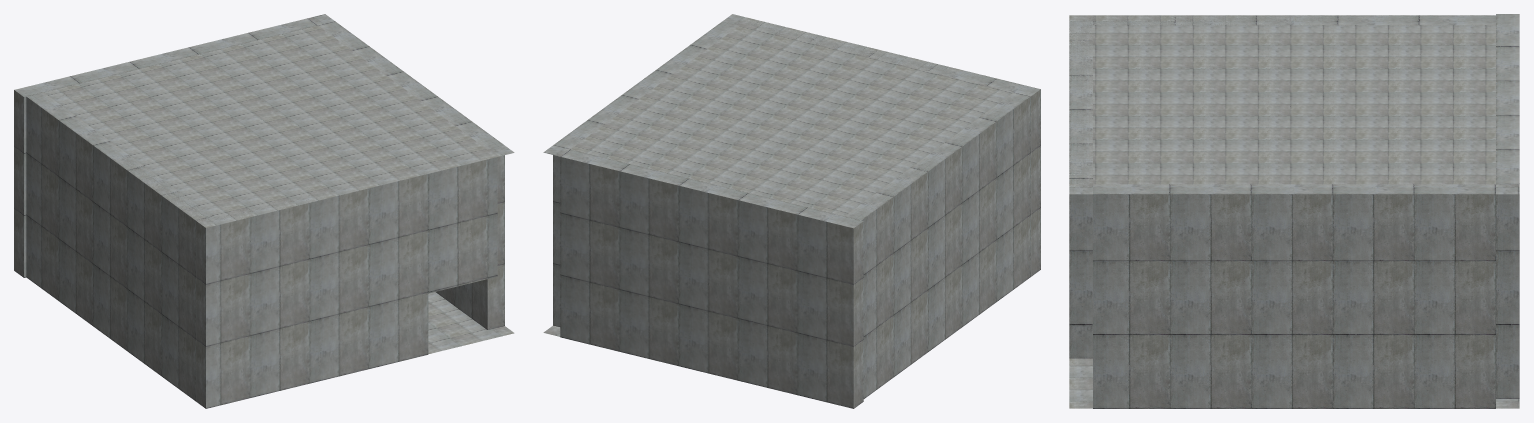
The model's file is Level_1.fbx.
The picture shows the model from 3 angles, left to right: view 1: azimuth 30°, elevation 25°; view 2: azimuth 150°, elevation 25°; view 3: azimuth 270°, elevation 25°; orthographic projection. The views are drawn at different scales.
Visible parts, largest first — view 1: Ground__1_.002; view 2: Ground__1_.002; view 3: Ground__1_.002.
Boxes of the visible parts, bbox=[...] form: Ground__1_.002: bbox=[14, 14, 514, 408]; Ground__1_.002: bbox=[543, 14, 1040, 408]; Ground__1_.002: bbox=[1069, 14, 1519, 408].
Size of the model in its own units: 18 by 19 by 10.
